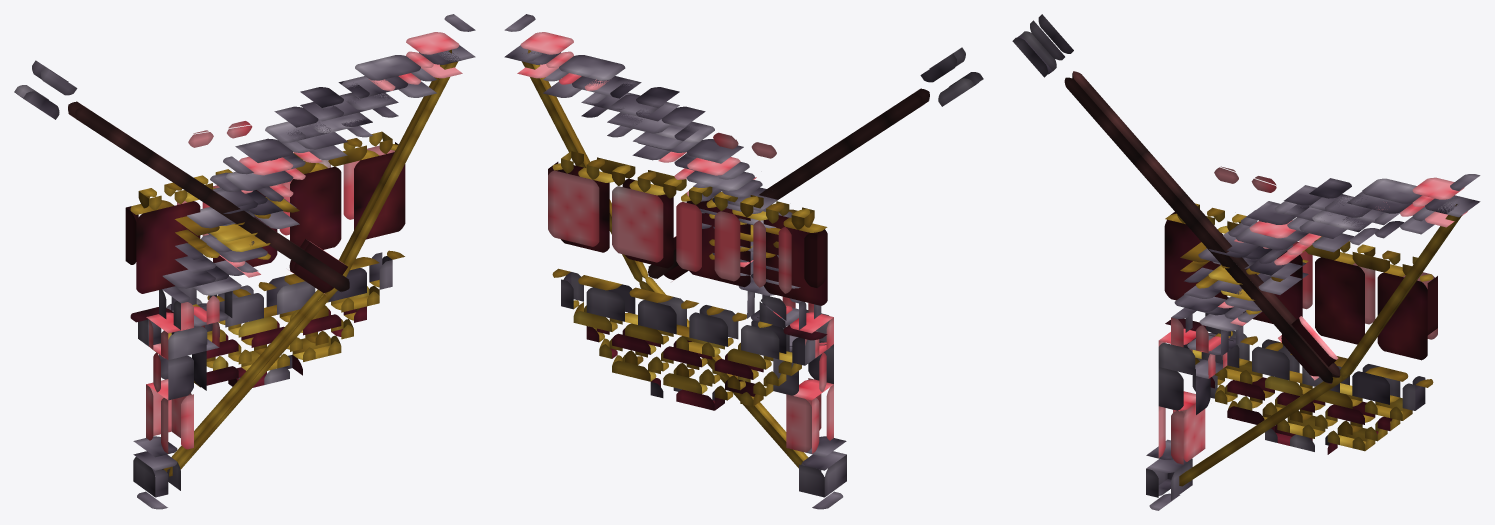
Rendered from bloodmoon_bow_pulling_0.obj.
3 views of the same model, side by side, from view 1: azimuth 30°, elevation 25°; view 2: azimuth 150°, elevation 25°; view 3: azimuth 330°, elevation 25° (orthographic). The views are drawn at different scales.
Visible parts, largest first — view 1: lit, fire; view 2: fire, lit; view 3: lit, fire.
Boxes of the visible parts, bbox=[...] form: lit: bbox=[14, 14, 475, 509]; fire: bbox=[125, 121, 405, 387]; fire: bbox=[548, 132, 827, 410]; lit: bbox=[504, 14, 983, 509]; lit: bbox=[1012, 14, 1480, 510]; fire: bbox=[1164, 166, 1437, 454].
Bounding box in the file's own units: 1.13 × 1.1 × 0.147.
